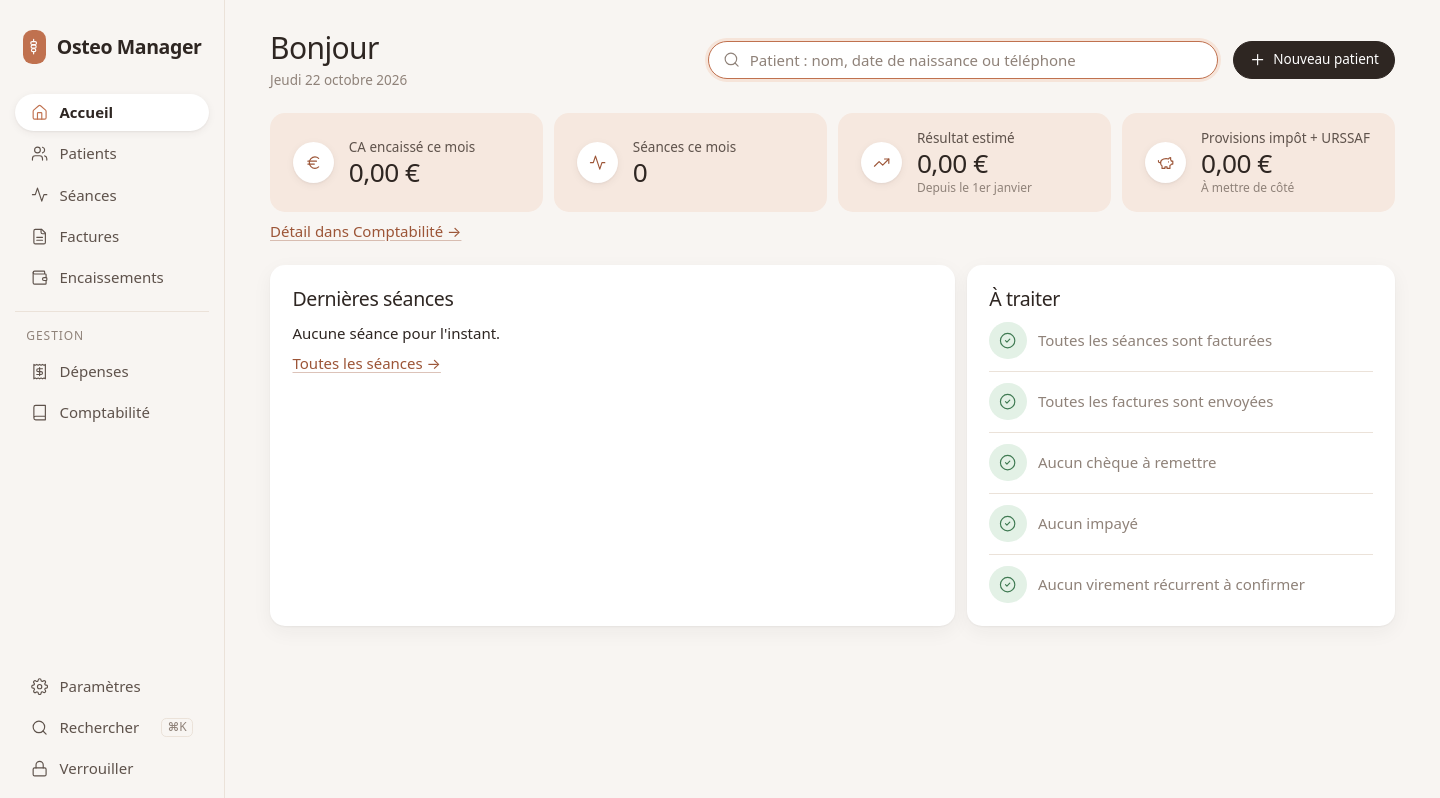
Test: notes patient enregistrées automatiquement
Step 1. Click the button "Patients" → (112,154), box [15,135,209,172]
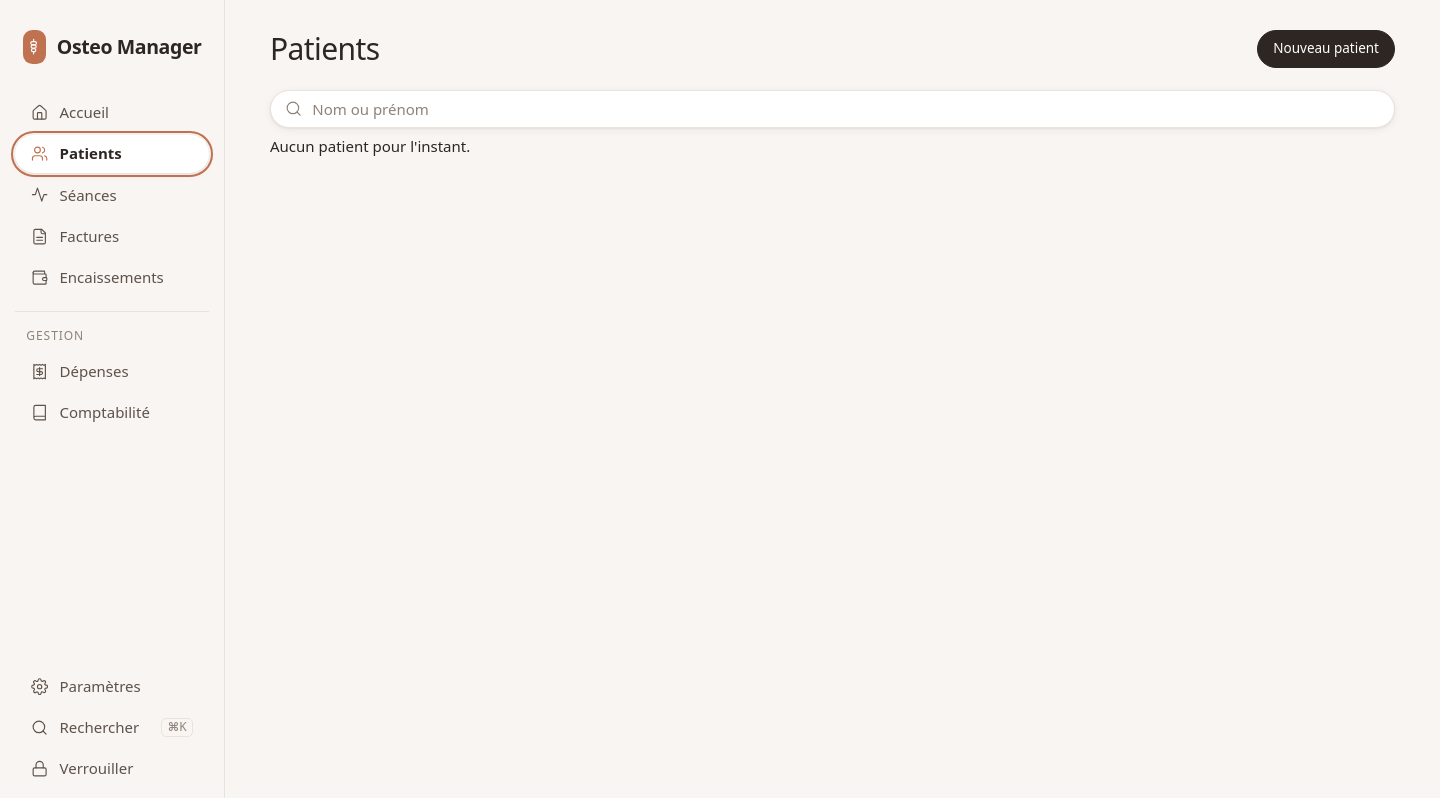
Step 2. Click the button "Nouveau patient" → (1326,49), box [1257,30,1395,68]
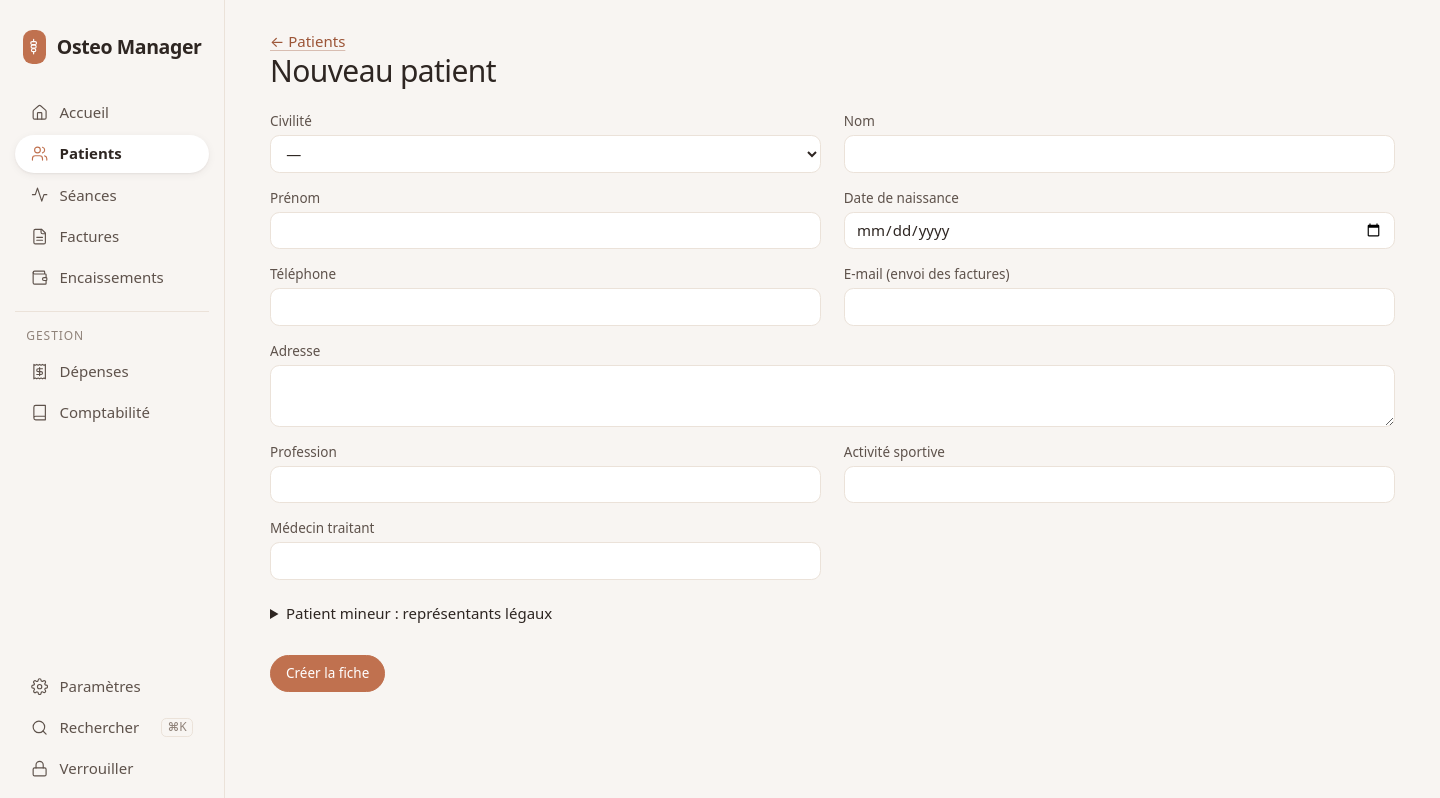
Step 3. Type "Dupont" into the field labelled "Nom" → (1119,154), box [844,135,1395,172]
Step 4. Type "Anne" into the field labelled "Prénom" → (546,230), box [270,212,821,249]
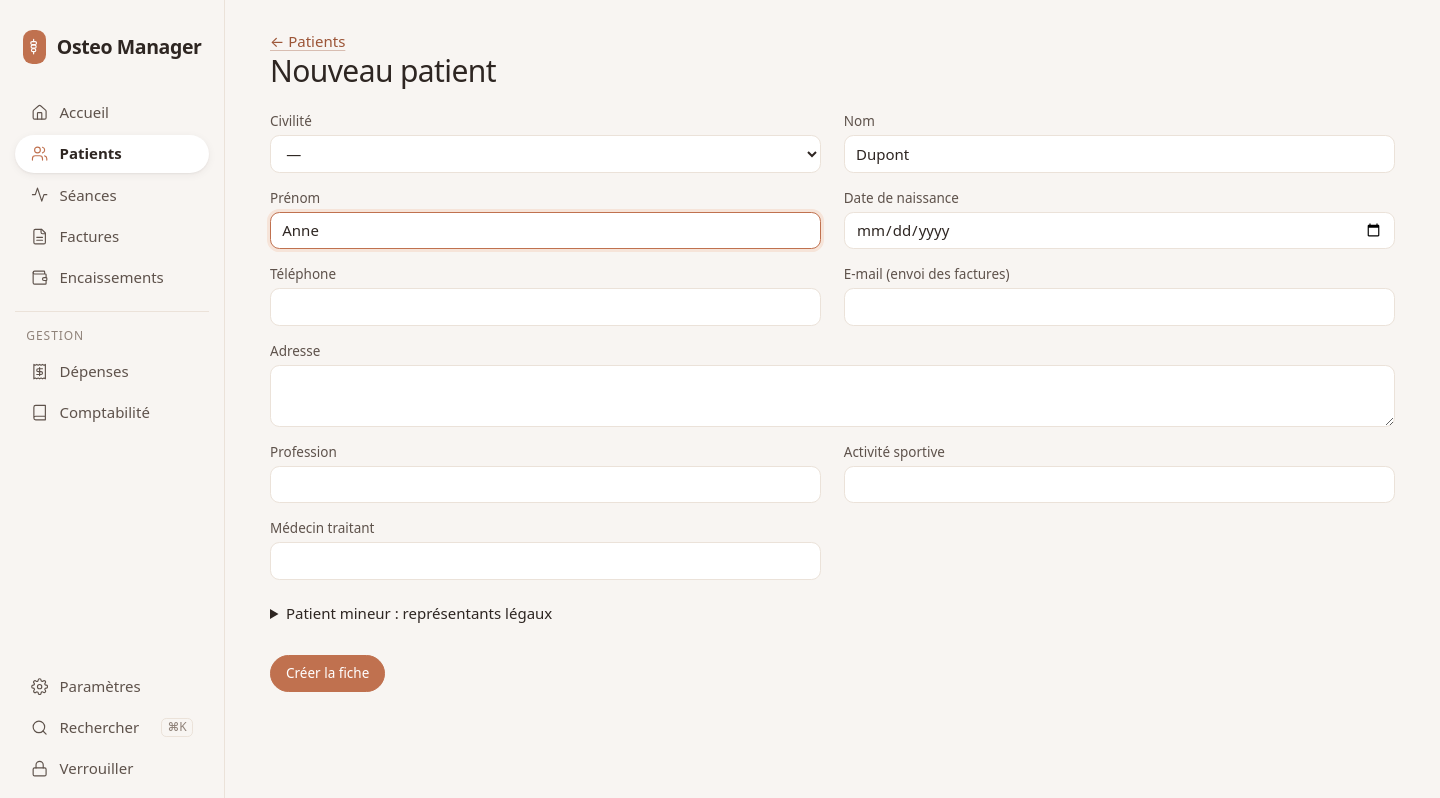
Step 5. Click the button "Créer la fiche" → (328,673), box [270,654,385,692]
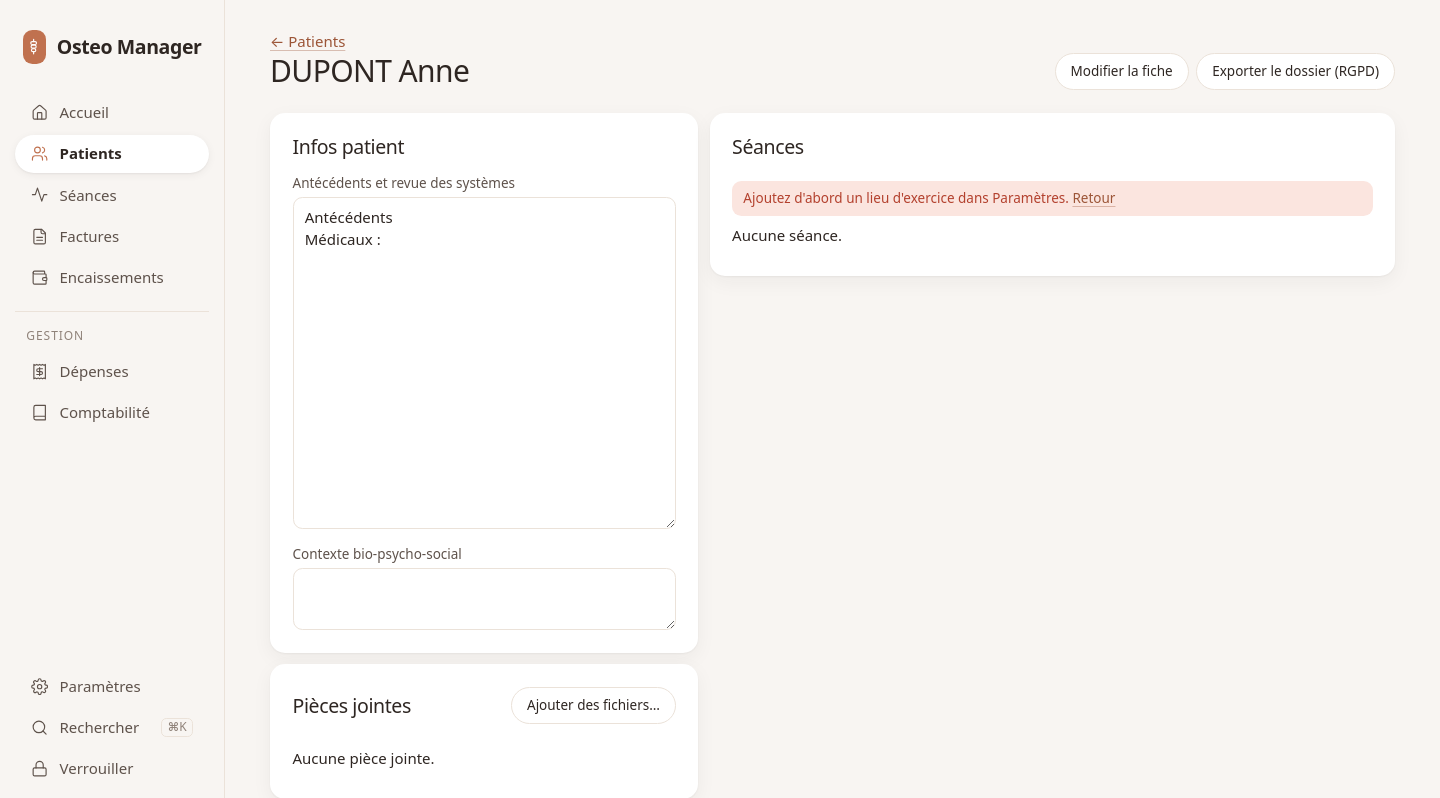
Expected: the button "Exporter le dossier (RGPD)" is shown, [1196,52,1395,90]
Step 6. Type " Asthme" into the text box labelled "Antécédents et revue des systèmes" → (484,363), box [292,197,676,529]
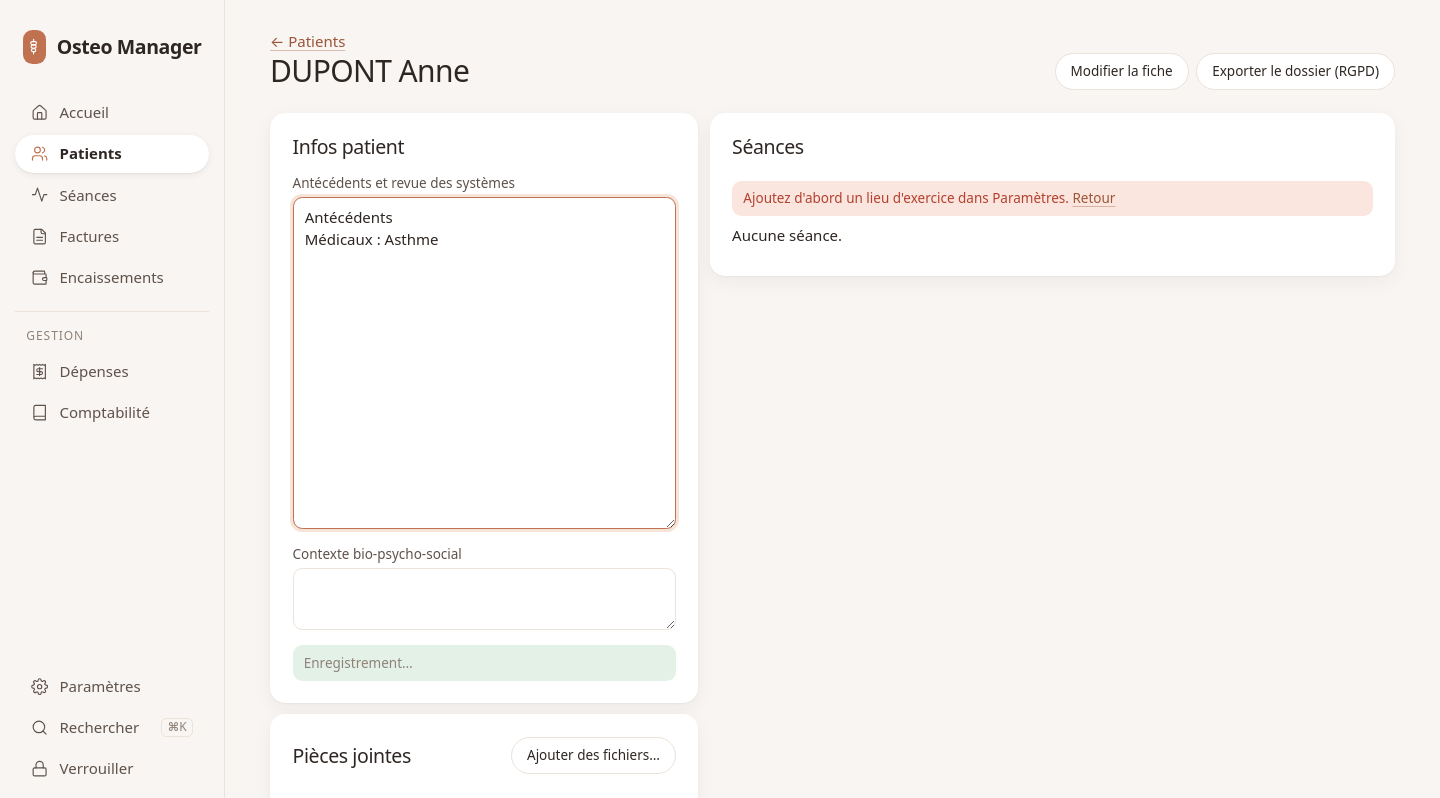
Step 7. Type "Deux enfants" into the text box labelled "Contexte bio-psycho-social" → (484,599), box [292,568,676,630]
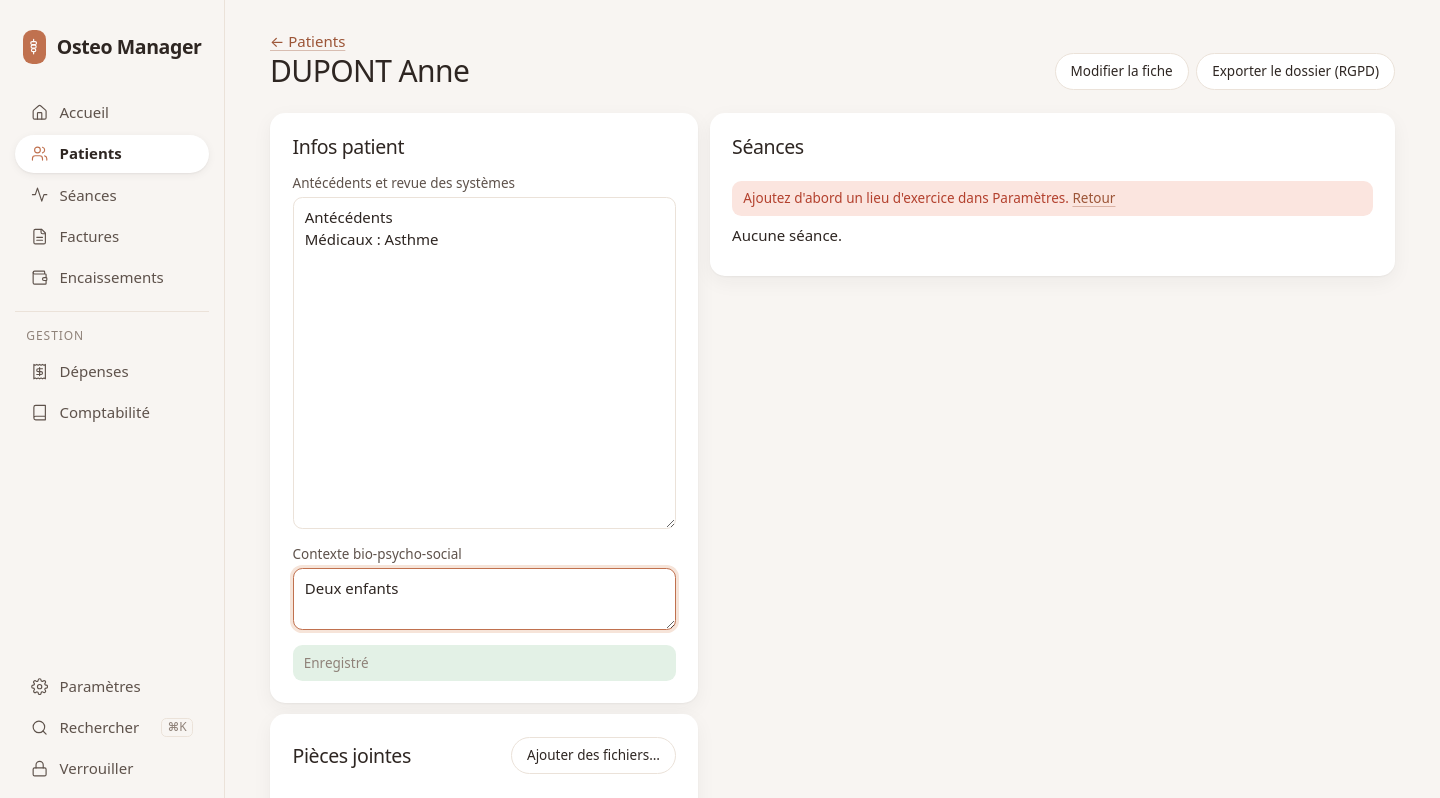
Expected: the text "Enregistré" is shown, [292,645,676,681]
